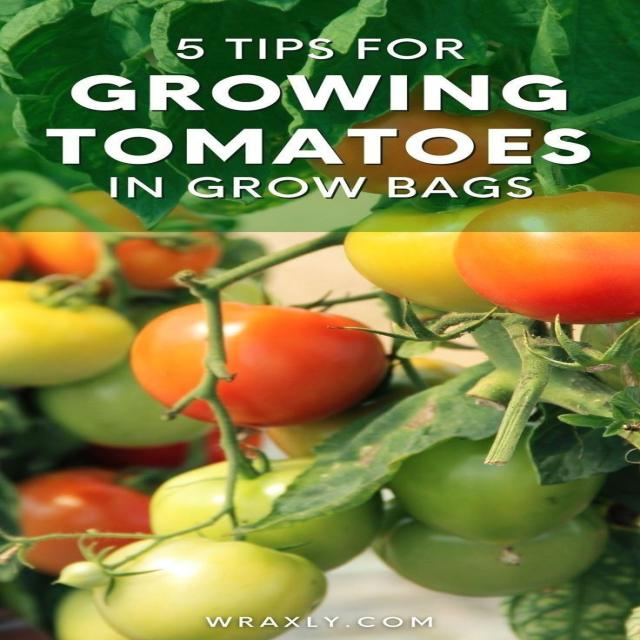level 2: (46, 310, 245, 449), (391, 407, 604, 533), (367, 493, 617, 596), (142, 462, 380, 568), (91, 536, 326, 637), (53, 570, 261, 640)
level 4: (342, 187, 600, 328), (0, 276, 138, 381)
level 5: (130, 300, 380, 428), (452, 190, 640, 321), (309, 91, 540, 192), (21, 191, 221, 289), (5, 468, 198, 568)
